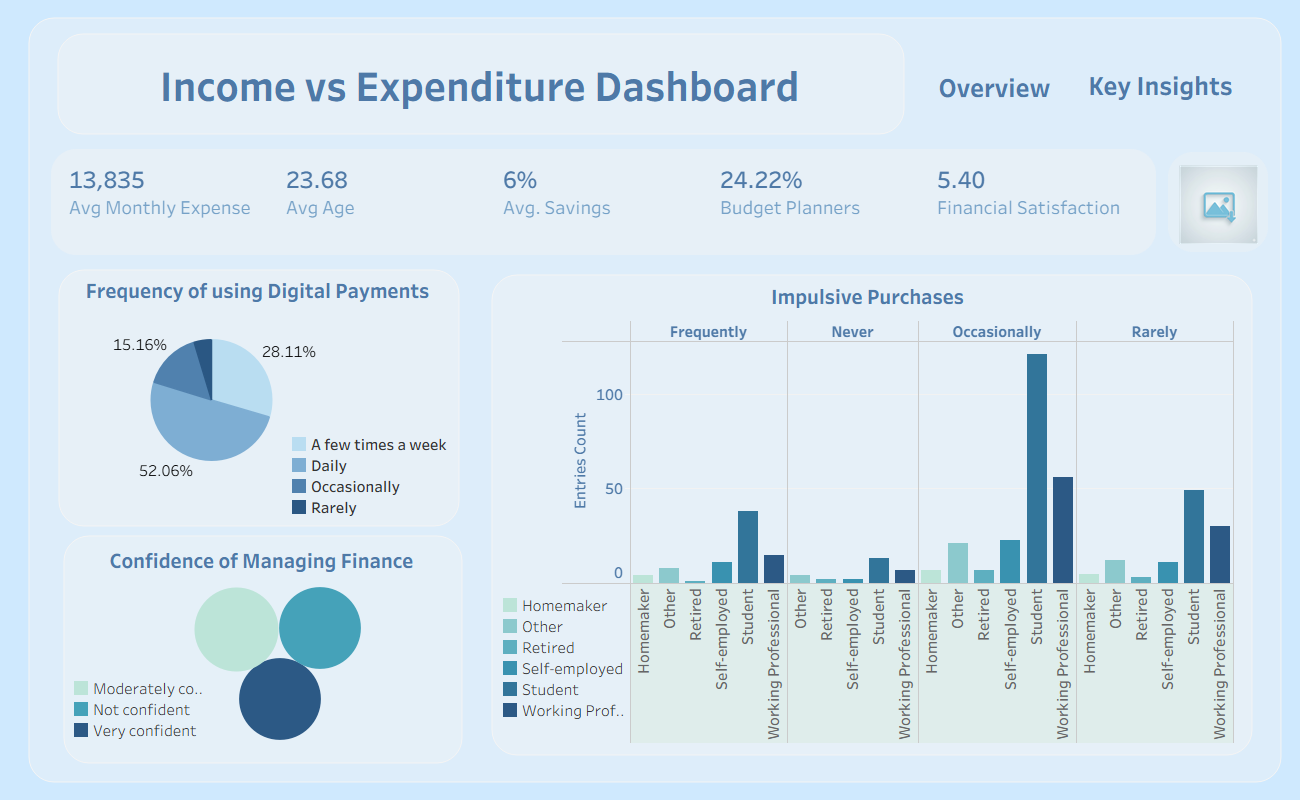

What the dashboard file says about the page in this screenshot:
{"tool":"tableau","page":{"name":"overview","canvas":[1300,800],"ordinal":1},"visuals":[{"type":"image","param":"C:/Users/saket/OneDrive/Desktop/WhatsApp Image 2025-10-22 at 13.23.46_d877ae92.j","box":[0,0,1300,800]},{"type":"worksheet","title":"dashov","mark":"Automatic","box":[0,0,1300,800]},{"type":"text","box":[61,41,837,87]},{"type":"dashboard-object","box":[1051,59,219,52]},{"type":"dashboard-object","box":[918,66,153,41]},{"type":"worksheet","title":"kpi","mark":"Automatic","box":[65,163,1089,86]},{"type":"dashboard-object","box":[1175,165,88,79]},{"type":"text","box":[76,275,363,30]},{"type":"worksheet","title":"freq of digpay","mark":"Pie","box":[53,278,317,244]},{"type":"text","box":[508,281,719,30]},{"type":"worksheet","title":"impulse pur","mark":"Automatic","rows":["Sheet1_71F6DABBD0374A0F801A03449952E70F"],"cols":["How often do you make impulse purchases (unplanned buys)? *","Occupation / Current Status *"],"box":[562,321,672,423]},{"type":"legend","title":"freq of digpay","param":"[federated.0n372xo1xlkuu81f6iiqe07kaedg].[none:How frequently do you use digital","box":[289,434,171,89]},{"type":"text","box":[106,545,311,30]},{"type":"worksheet","title":"confidence","mark":"Circle","box":[103,586,349,154]},{"type":"legend","title":"impulse pur","param":"[federated.0n372xo1xlkuu81f6iiqe07kaedg].[none:Occupation / Current Status *:nk]","box":[500,595,129,133]},{"type":"legend","title":"confidence","param":"[federated.0n372xo1xlkuu81f6iiqe07kaedg].[none:How confident are you in managing","box":[71,678,133,78]}]}

Visuals, with their boxes in screenshot pixels (x1, y1, x2, y2), scaled from the page's 1300x800 canvas onto the 1300x800 screenshot:
image: [x1=0, y1=0, x2=1299, y2=799]
"dashov" worksheet: [x1=0, y1=0, x2=1299, y2=799]
text: [x1=61, y1=41, x2=898, y2=128]
dashboard-object: [x1=1051, y1=59, x2=1270, y2=111]
dashboard-object: [x1=918, y1=66, x2=1071, y2=107]
"kpi" worksheet: [x1=65, y1=163, x2=1154, y2=249]
dashboard-object: [x1=1175, y1=165, x2=1263, y2=244]
text: [x1=76, y1=275, x2=439, y2=305]
"freq of digpay" worksheet (Pie marks): [x1=53, y1=278, x2=370, y2=522]
text: [x1=508, y1=281, x2=1227, y2=311]
"impulse pur" worksheet: [x1=562, y1=321, x2=1234, y2=744]
"freq of digpay" legend: [x1=289, y1=434, x2=460, y2=523]
text: [x1=106, y1=545, x2=417, y2=575]
"confidence" worksheet (Circle marks): [x1=103, y1=586, x2=452, y2=740]
"impulse pur" legend: [x1=500, y1=595, x2=629, y2=728]
"confidence" legend: [x1=71, y1=678, x2=204, y2=756]
